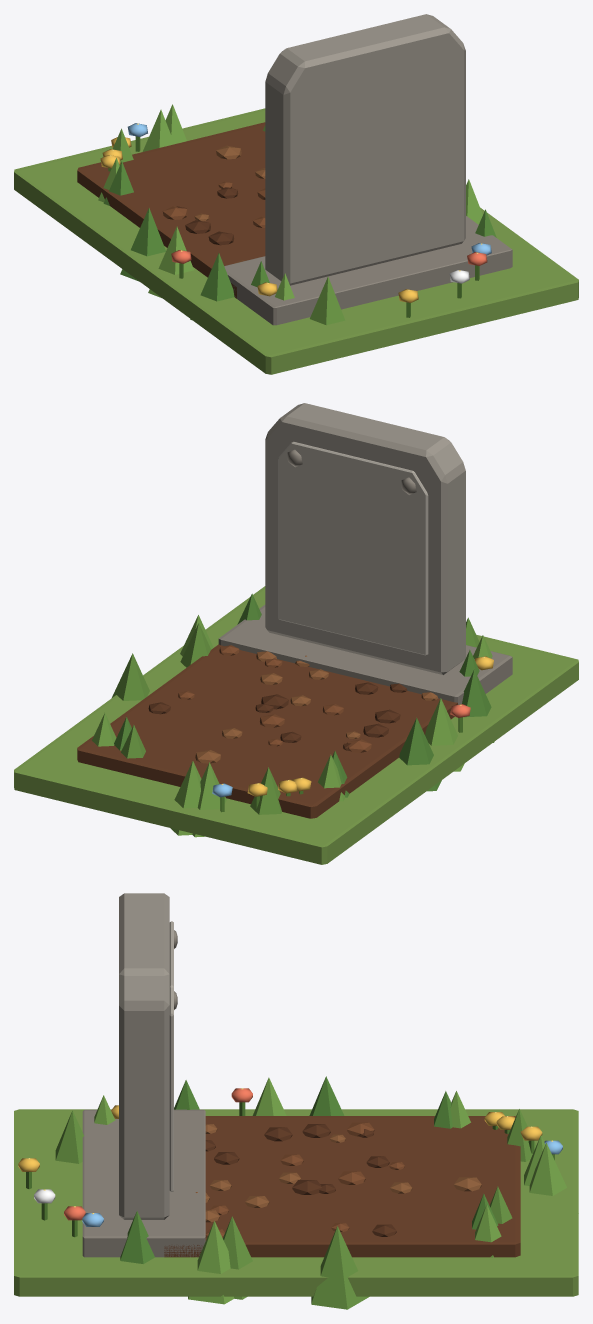
Rendered from gravestone_classic.glb.
3 views of the same model, one above another, from view 1: azimuth 30°, elevation 25°; view 2: azimuth 150°, elevation 25°; view 3: azimuth 270°, elevation 25° (orthographic). The views are drawn at different scales.
Parts seen in each view (by area): view 1: gravestone_classic; view 2: gravestone_classic; view 3: gravestone_classic.
Part boxes in pixels (x1,y1,x2,y2): gravestone_classic: (14, 14, 578, 374); gravestone_classic: (14, 403, 578, 864); gravestone_classic: (14, 893, 578, 1309).
Size of the model in its own units: 1.15 by 0.878 by 1.56.
